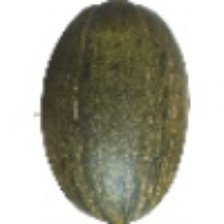honeydew: (3, 35, 179, 224)
